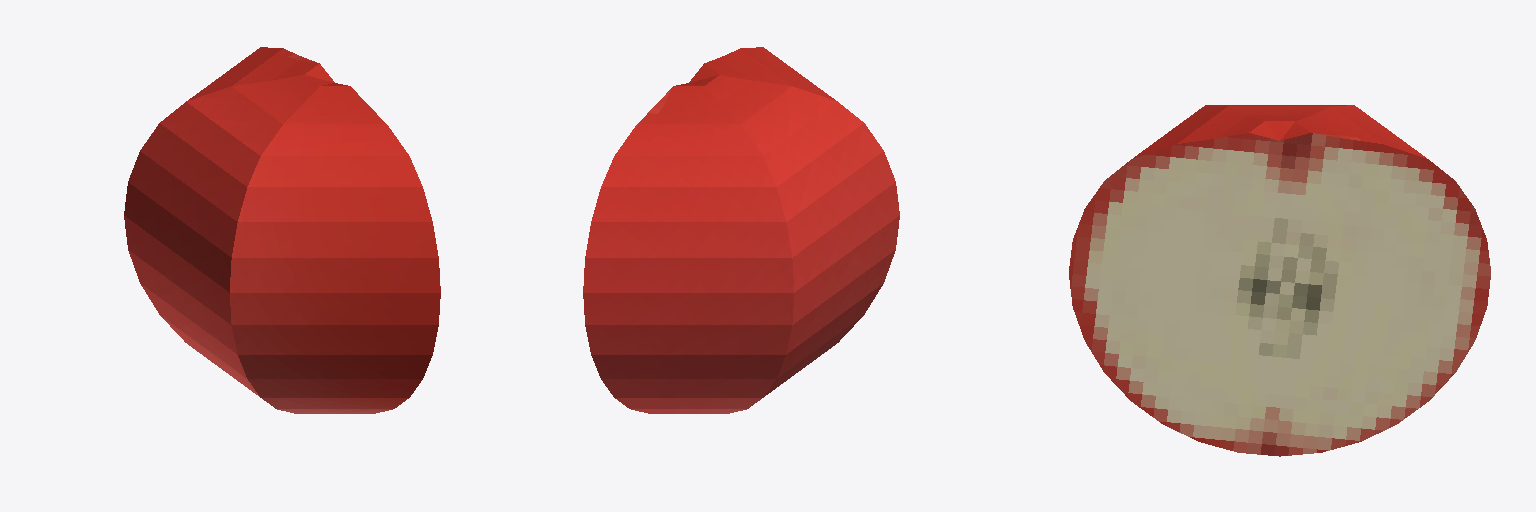
3 renders of one model, left to right at view 1: azimuth 30°, elevation 25°; view 2: azimuth 150°, elevation 25°; view 3: azimuth 270°, elevation 25°, orthographic.
Parts seen in each view (by area): view 1: Sphere; view 2: Sphere; view 3: Sphere.
Part boxes in pixels (x1,y1,x2,y2): Sphere: (124, 47, 440, 413); Sphere: (583, 47, 899, 413); Sphere: (1069, 105, 1490, 456).
Bounding box in the file's own units: 0.866 × 1.69 × 2.
Materials: 1 (1 with a texture image).